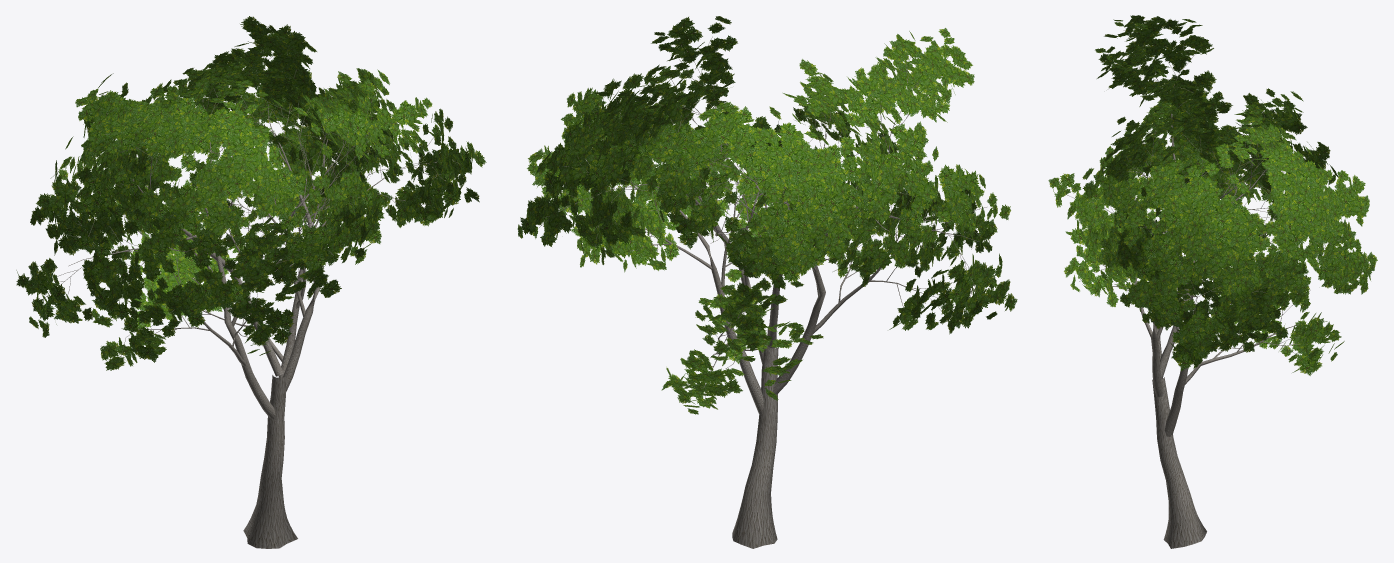
Rendered from tree-ash-a.glb.
3 renders of one model, left to right at view 1: azimuth 30°, elevation 25°; view 2: azimuth 150°, elevation 25°; view 3: azimuth 270°, elevation 25°, orthographic. The views are drawn at different scales.
Visible parts, largest first — view 1: leaves, bark; view 2: leaves, bark; view 3: leaves, bark.
Part boxes in pixels (x1,y1,x2,y2): leaves: (16, 16, 486, 370); bark: (43, 39, 459, 548); leaves: (517, 16, 1017, 414); bark: (539, 36, 990, 548); leaves: (1048, 15, 1377, 375); bark: (1066, 30, 1362, 548).
Bounding box in the file's own units: 14.07 × 14.82 × 9.77.
Materials: 2 (2 with a texture image).
